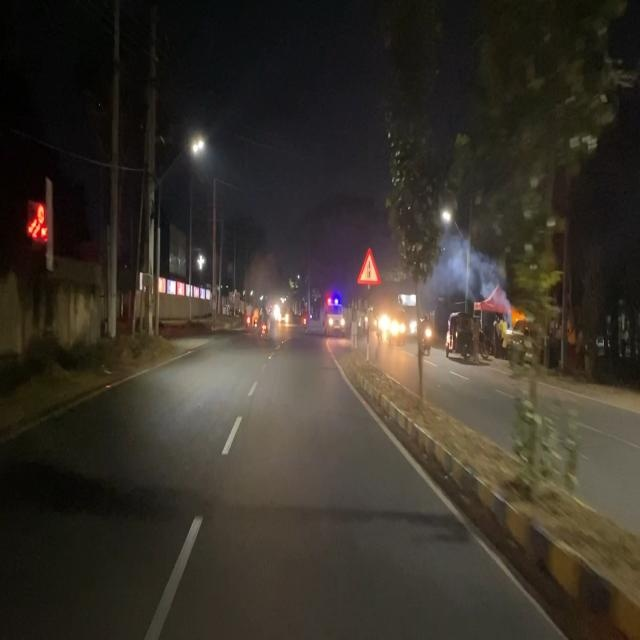bien_nguy_hiem: (358, 246, 380, 286)
